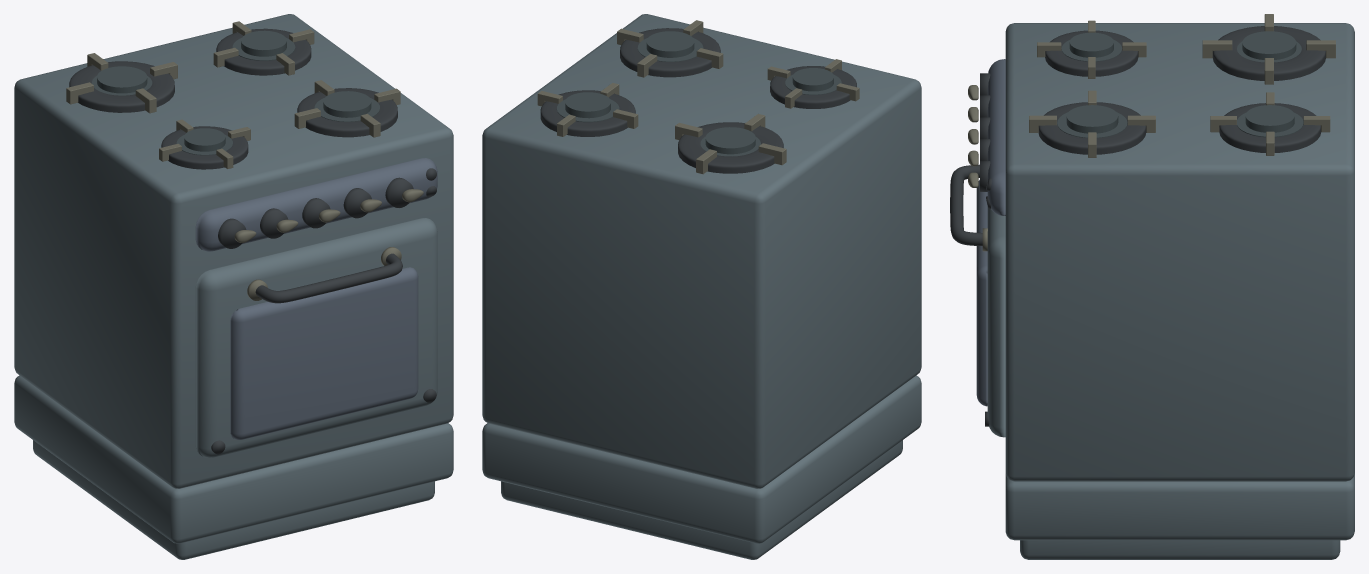
The model's file is stove 1.fbx.
3 renders of one model, left to right at view 1: azimuth 30°, elevation 25°; view 2: azimuth 150°, elevation 25°; view 3: azimuth 270°, elevation 25°, orthographic. The views are drawn at different scales.
Parts seen in each view (by area): view 1: Cube, Cube.001, Cube.006, Cube.004, Cube.002, Cube.005, Circle.005, NurbsPath, Circle.007, Circle.004, Circle.006, Circle (+12 smaller); view 2: Cube, Cube.001, Cube.002, Circle.005, Circle.007, Circle.004, Circle.006, Circle, Circle.003, Circle.002, Cube.015, Cube.018 (+3 smaller); view 3: Cube, Cube.001, Cube.002, Cube.004, Circle.005, Cube.005, Circle.007, Cube.006, Circle.004, Circle.006, Circle, Circle.003 (+7 smaller).
Boxes of the visible parts, x1=… form: Cube: x1=14, y1=14, x2=453, y2=488; Cube.001: x1=14, y1=375, x2=453, y2=543; Cube.006: x1=230, y1=267, x2=418, y2=439; Cube.004: x1=195, y1=218, x2=437, y2=457; Cube.002: x1=33, y1=440, x2=434, y2=559; Cube.005: x1=195, y1=158, x2=437, y2=251; Circle.005: x1=69, y1=61, x2=174, y2=112; NurbsPath: x1=255, y1=253, x2=402, y2=303; Circle.007: x1=297, y1=88, x2=397, y2=137; Circle.004: x1=216, y1=28, x2=311, y2=75; Circle.006: x1=161, y1=126, x2=248, y2=169; Circle: x1=314, y1=91, x2=379, y2=121; Cube: x1=482, y1=14, x2=921, y2=488; Cube.001: x1=482, y1=375, x2=921, y2=543; Cube.002: x1=501, y1=440, x2=902, y2=559; Circle.005: x1=678, y1=122, x2=783, y2=173; Circle.007: x1=620, y1=28, x2=720, y2=77; Circle.004: x1=540, y1=90, x2=635, y2=136; Circle.006: x1=770, y1=66, x2=856, y2=108; Circle: x1=637, y1=31, x2=703, y2=61; Circle.003: x1=556, y1=92, x2=619, y2=122; Circle.002: x1=700, y1=127, x2=760, y2=156; Cube.015: x1=675, y1=114, x2=786, y2=174; Cube.018: x1=617, y1=20, x2=723, y2=77; Cube: x1=1005, y1=23, x2=1354, y2=481; Cube.001: x1=1005, y1=473, x2=1354, y2=540; Cube.002: x1=1020, y1=540, x2=1340, y2=559; Cube.004: x1=987, y1=206, x2=1005, y2=437; Circle.005: x1=1212, y1=26, x2=1325, y2=80; Cube.005: x1=987, y1=59, x2=1005, y2=215; Circle.007: x1=1038, y1=102, x2=1146, y2=154; Cube.006: x1=976, y1=180, x2=987, y2=406; Circle.004: x1=1219, y1=103, x2=1321, y2=152; Circle.006: x1=1045, y1=30, x2=1138, y2=76; Circle: x1=1057, y1=105, x2=1127, y2=137; Circle.003: x1=1237, y1=105, x2=1303, y2=137.
Size of the model in its own units: 200 by 264 by 232.
